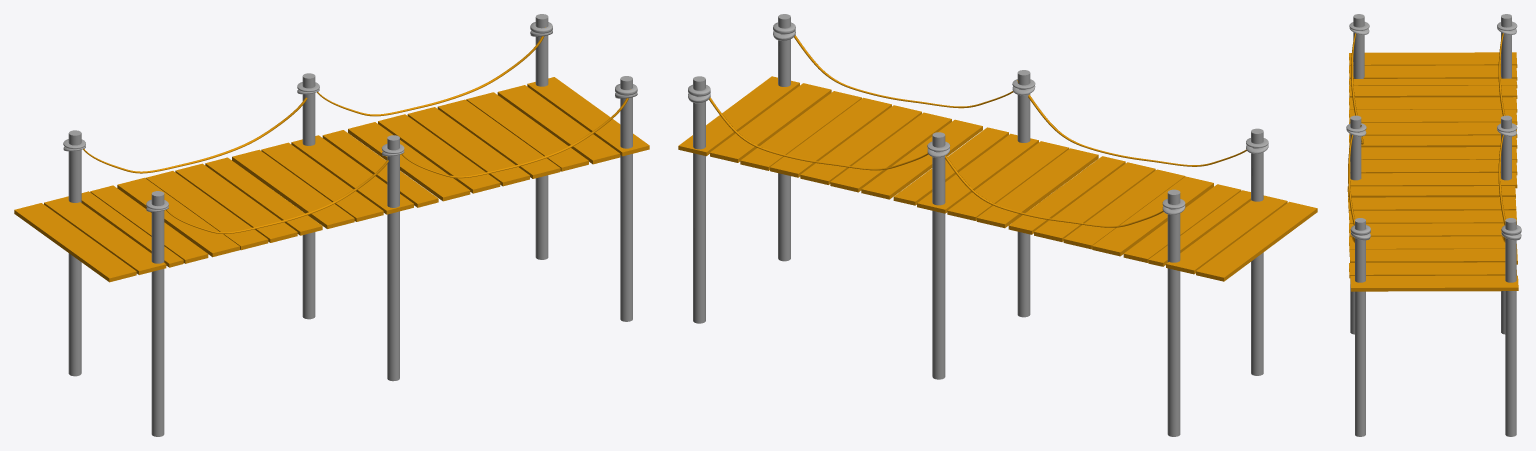
File: obj_doc_01.fbx
3 views of the same model, side by side, from view 1: azimuth 30°, elevation 25°; view 2: azimuth 150°, elevation 25°; view 3: azimuth 270°, elevation 25° (orthographic). The views are drawn at different scales.
Visible parts, largest first — view 1: obj_dock_01; view 2: obj_dock_01; view 3: obj_dock_01.
Part boxes in pixels (x1,y1,x2,y2): obj_dock_01: [14, 14, 649, 436]; obj_dock_01: [678, 14, 1317, 436]; obj_dock_01: [1346, 14, 1521, 436].
Size of the model in its own units: 10.4 by 4.41 by 3.27.
